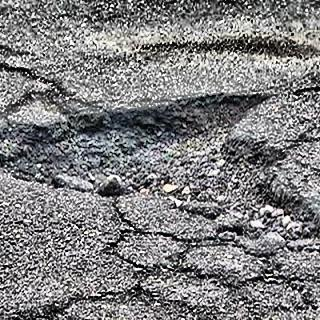alligator-crack: (54, 254, 320, 318)
pothole: (1, 82, 318, 250)
